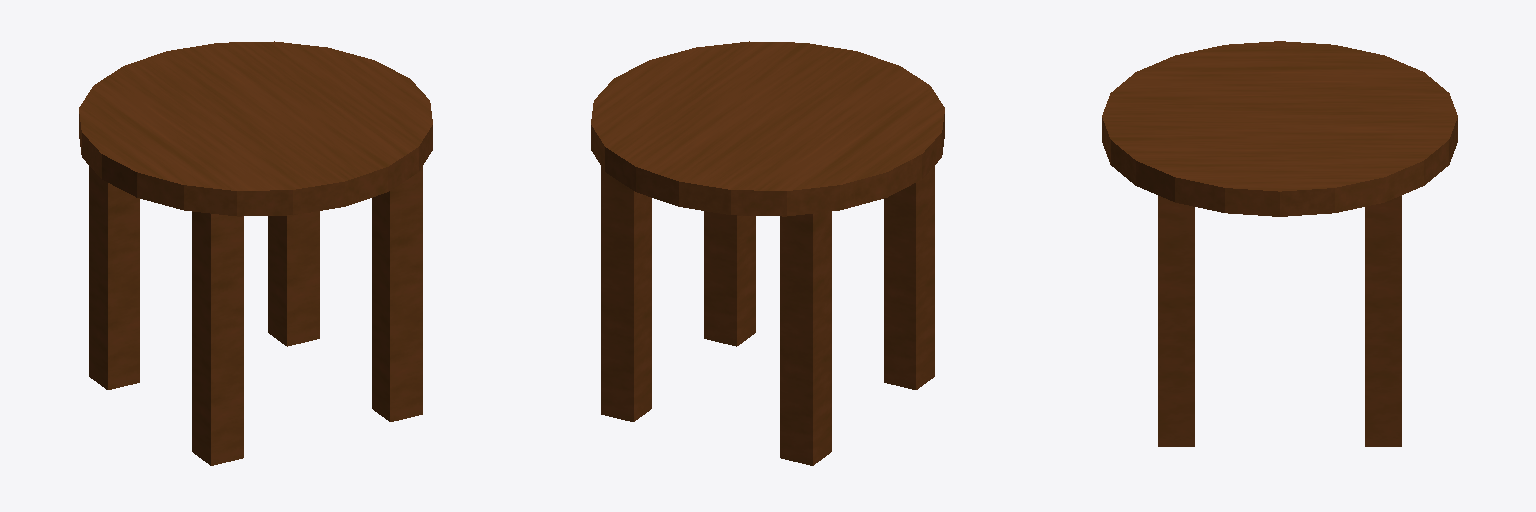
3 views of the same model, side by side, from view 1: azimuth 30°, elevation 25°; view 2: azimuth 150°, elevation 25°; view 3: azimuth 270°, elevation 25° (orthographic).
Visible parts, largest first — view 1: small_table; view 2: small_table; view 3: small_table.
Boxes of the visible parts, x1,y1,x2,y2 form: small_table: [79, 41, 432, 465]; small_table: [591, 41, 944, 465]; small_table: [1102, 41, 1457, 446].
Bounding box in the file's own units: 2.41 × 2.09 × 2.41.
1 materials, 1 textured.